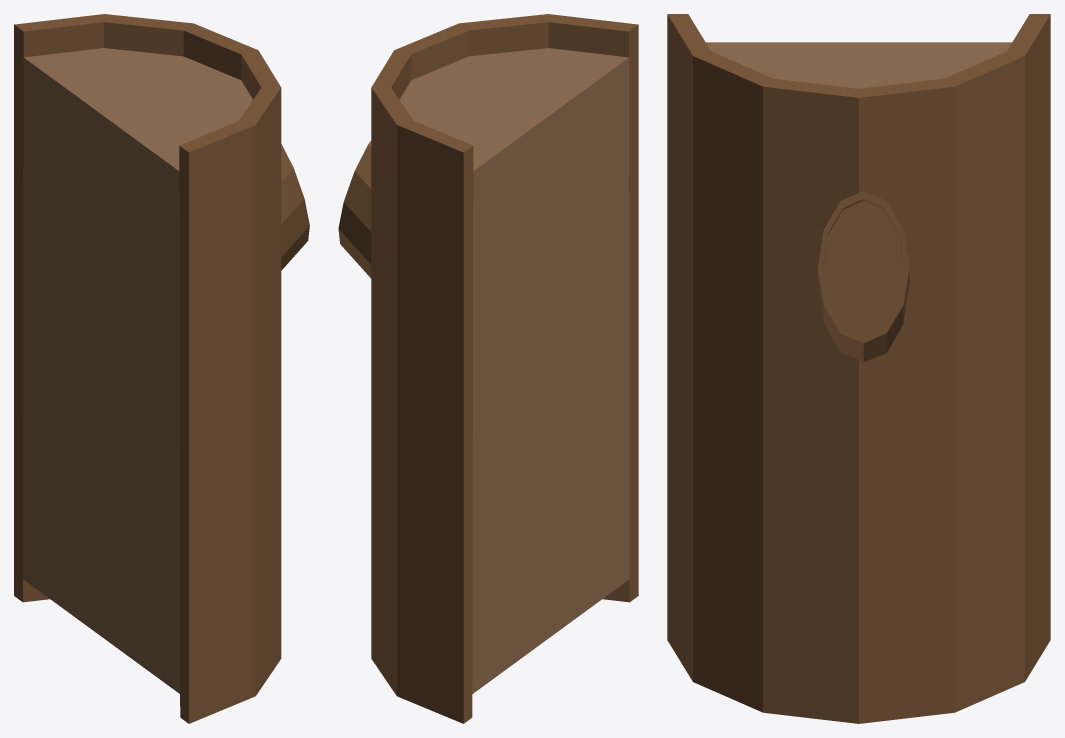
File: wood.02.fbx
3 renders of one model, left to right at view 1: azimuth 30°, elevation 25°; view 2: azimuth 150°, elevation 25°; view 3: azimuth 270°, elevation 25°, orthographic. The views are drawn at different scales.
Parts seen in each view (by area): view 1: wood.02; view 2: wood.02; view 3: wood.02.
Boxes of the visible parts, left/top/right/bottom form: wood.02: left=14, top=14, right=309, bottom=723; wood.02: left=338, top=14, right=638, bottom=723; wood.02: left=667, top=14, right=1050, bottom=723.
Size of the model in its own units: 73.44 by 200 by 111.
